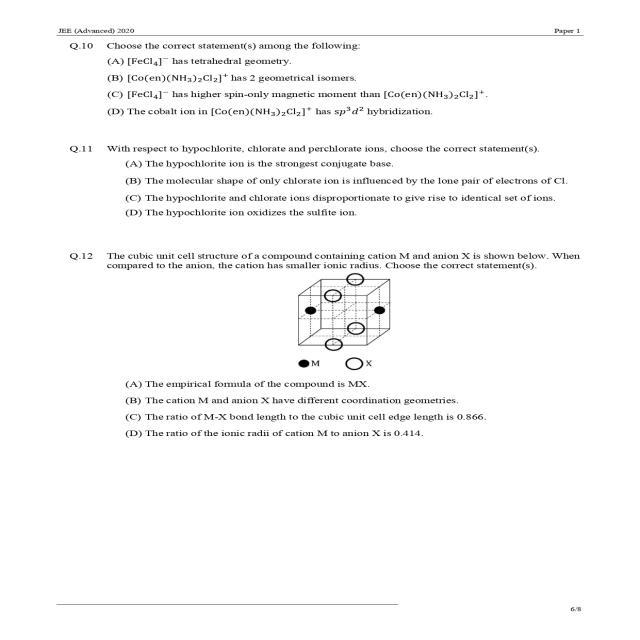Answer_Block: (9, 54, 630, 134), (8, 158, 628, 238), (8, 378, 628, 456)
Question_Answer_Block: (12, 240, 631, 457), (9, 138, 630, 238), (9, 38, 630, 138)
Question_Block: (13, 246, 628, 375), (11, 140, 628, 157), (9, 40, 630, 51)
Question_Paper_Area: (9, 36, 630, 510)
